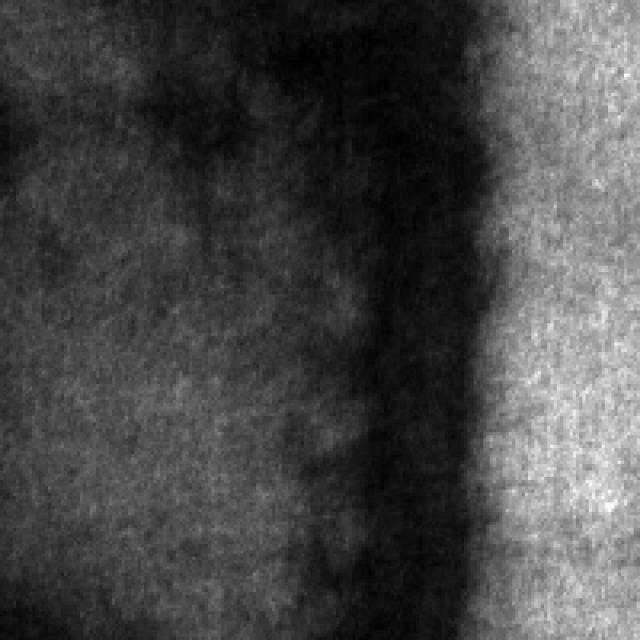patches: (284, 0, 499, 630)
